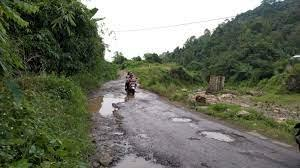Pothole: (97, 124, 176, 168), (81, 92, 142, 122), (245, 125, 299, 153), (197, 127, 245, 148), (169, 113, 196, 131)
